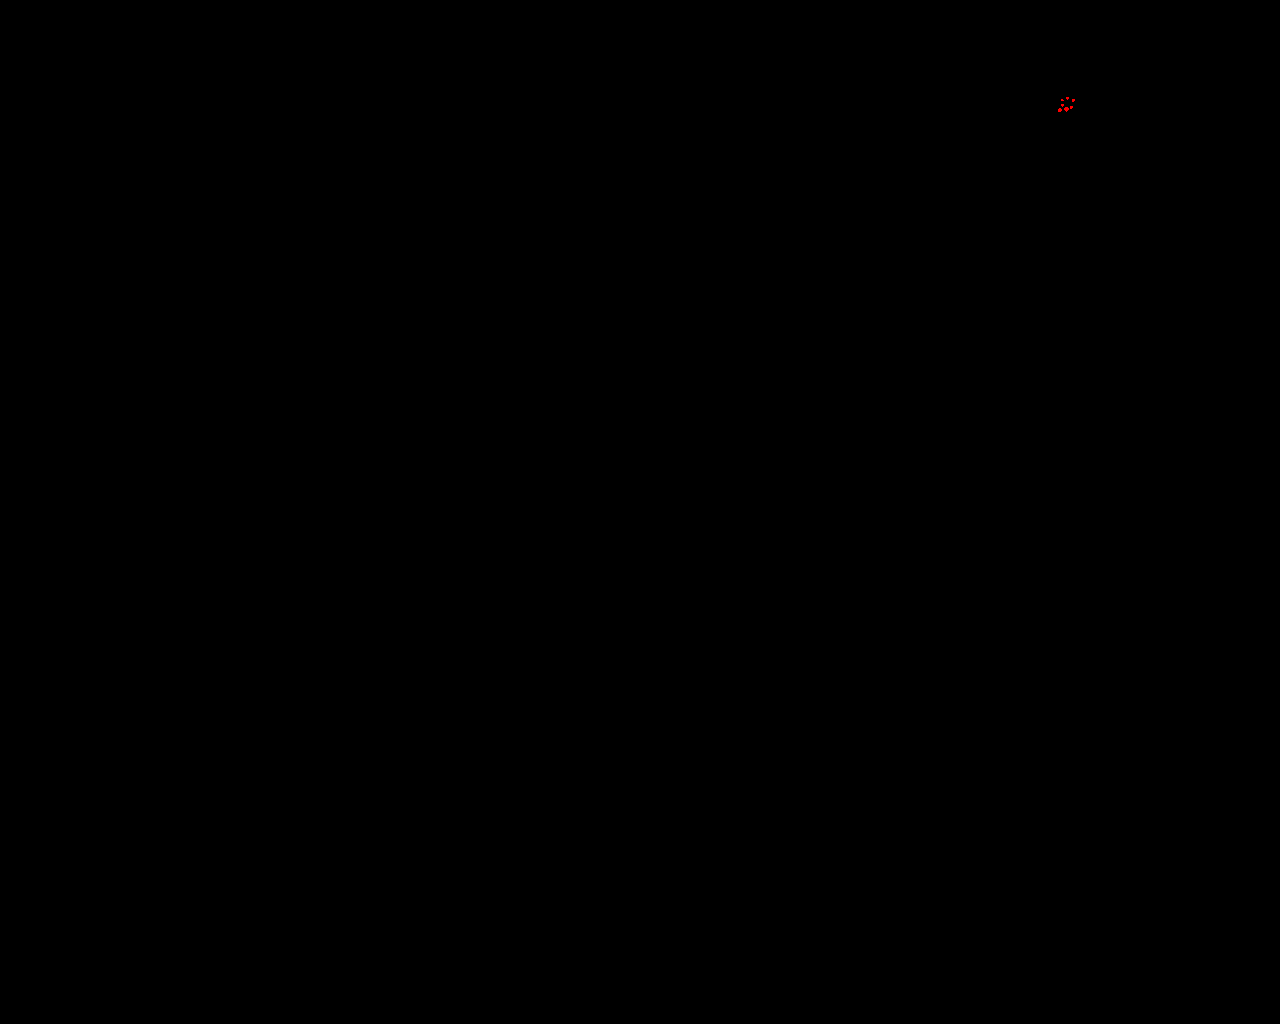Target: (1064, 107, 1069, 112), (1058, 108, 1062, 112), (1066, 97, 1069, 100), (1072, 99, 1075, 102), (1070, 106, 1073, 109), (1061, 99, 1064, 101), (1061, 104, 1064, 107)
